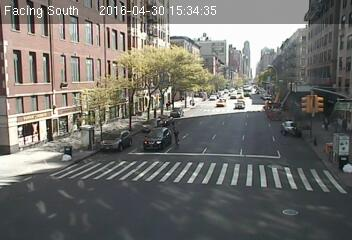neg: (48, 61, 102, 134), (146, 40, 197, 108), (3, 119, 50, 182), (176, 124, 198, 153), (236, 94, 257, 123), (171, 105, 190, 129), (281, 131, 297, 153), (194, 78, 205, 93)
